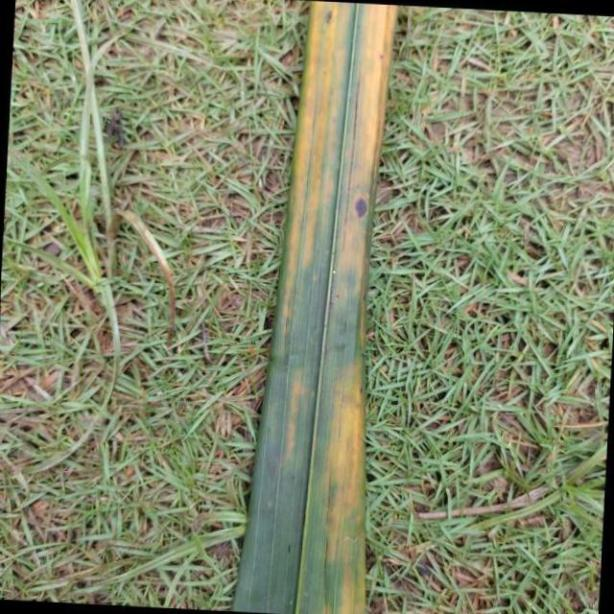Megnesium: (239, 1, 396, 614)
